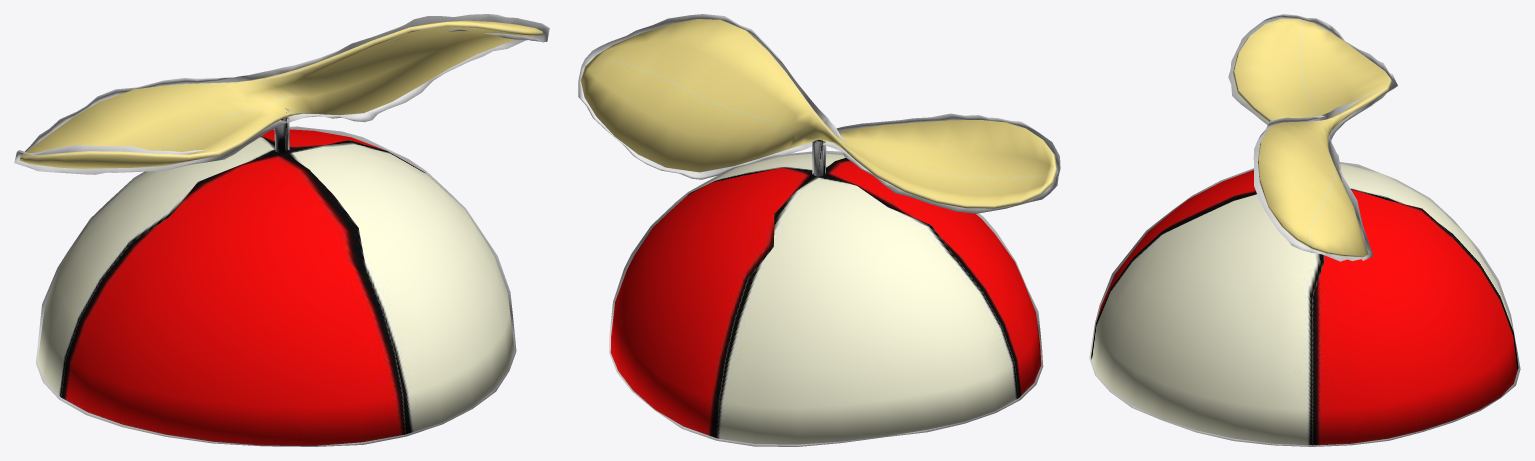
Rendered from outfit_propeller_hat.glb.
The picture shows the model from 3 angles, left to right: view 1: azimuth 30°, elevation 25°; view 2: azimuth 150°, elevation 25°; view 3: azimuth 270°, elevation 25°; orthographic projection. The views are drawn at different scales.
Parts seen in each view (by area): view 1: outfit_propeller_hat; view 2: outfit_propeller_hat; view 3: outfit_propeller_hat.
Boxes of the visible parts, x1=… form: outfit_propeller_hat: x1=14, y1=14, x2=549, y2=446; outfit_propeller_hat: x1=578, y1=14, x2=1060, y2=446; outfit_propeller_hat: x1=1089, y1=14, x2=1520, y2=446.
Size of the model in its own units: 0.4988 by 0.3002 by 0.3977.
Materials: 4 (3 with a texture image).
